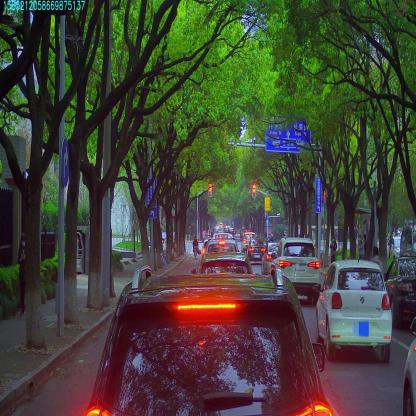traffic-light: (252, 183, 256, 197), (208, 182, 212, 196)
